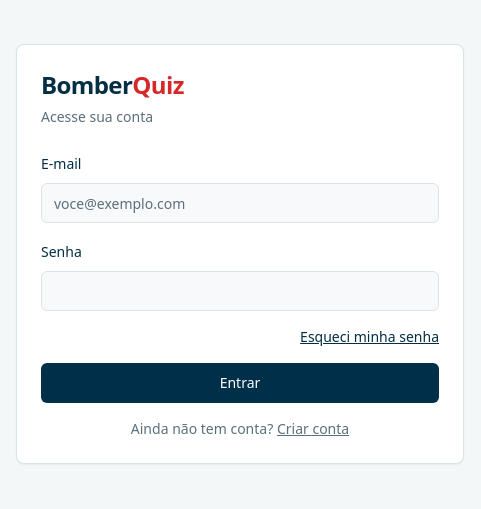
Test: LoginPage › mostra erro de validação ao enviar o formulário vazio
Click the button "Entrar" at (240, 383), box [41,363,439,403]
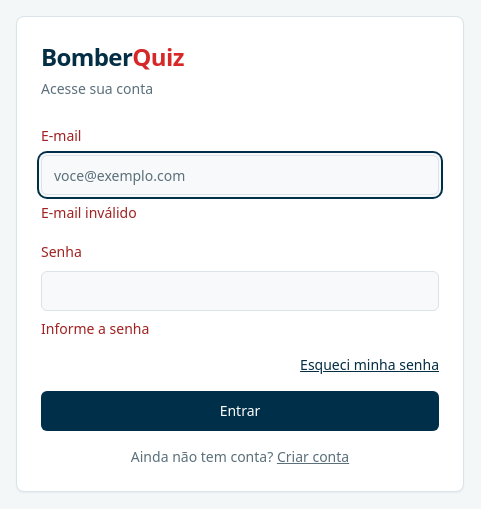
expect the text "E-mail inválido" is shown: met, box [41,203,137,222]
